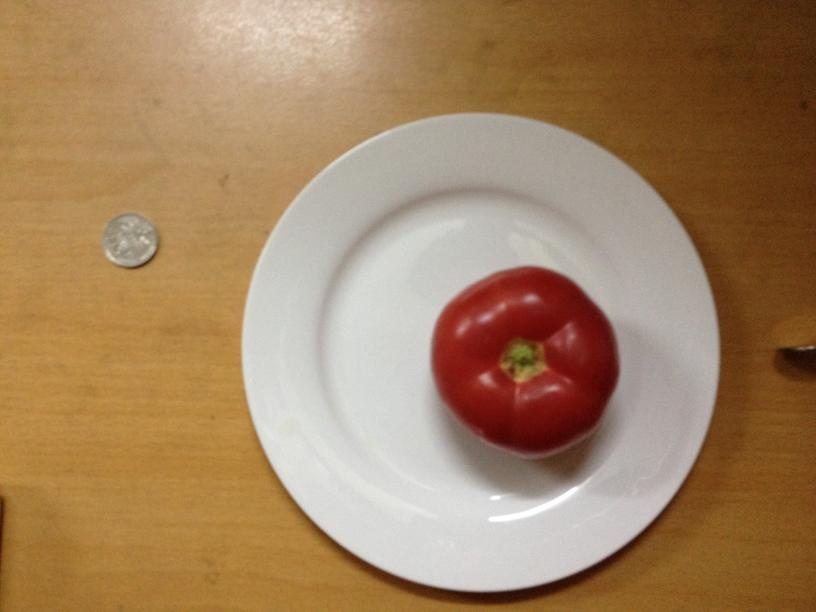coin: (99, 213, 158, 270)
tomato: (420, 268, 618, 457)
